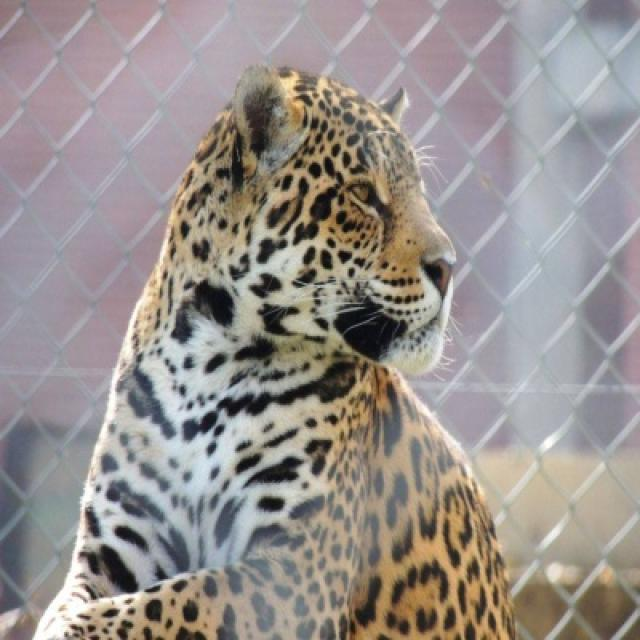Jaguar: (29, 66, 525, 638)
